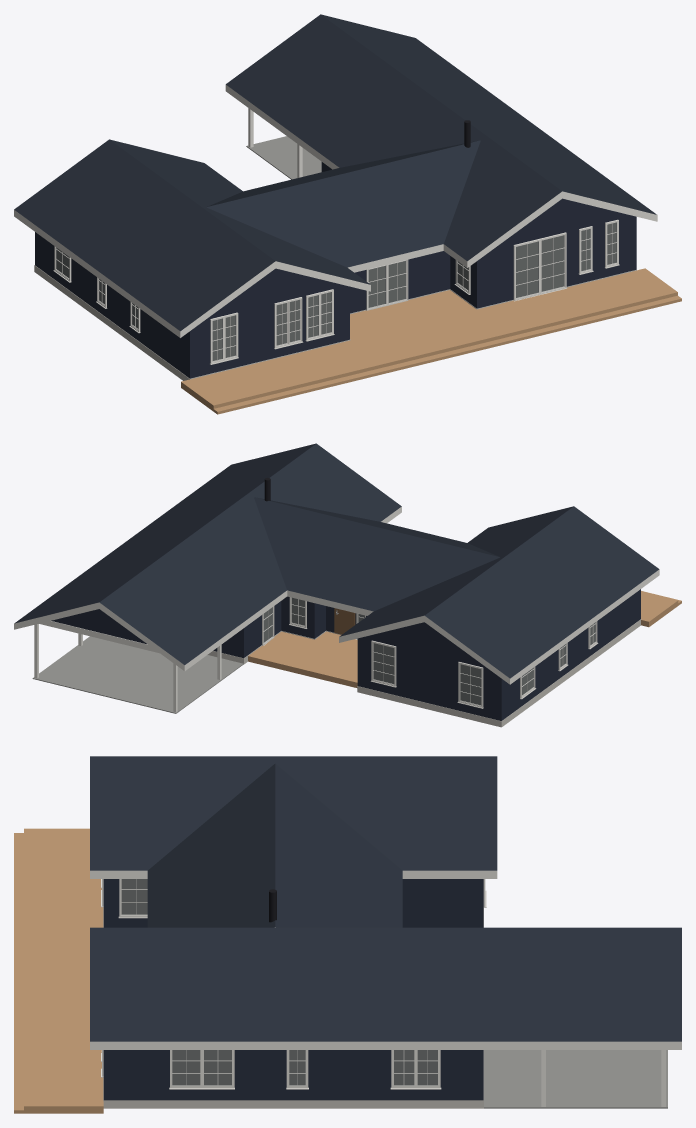
File: teder224_c1_p0_m1.glb
3 views of the same model, one above another, from view 1: azimuth 30°, elevation 25°; view 2: azimuth 150°, elevation 25°; view 3: azimuth 270°, elevation 25° (orthographic). The views are drawn at different scales.
Parts seen in each view (by area): view 1: roof, deck, wall, glass, curtain, fascia, frame, plinth, paving; view 2: roof, wall, paving, fascia, deck, glass, curtain, plinth, frame, door; view 3: roof, deck, wall, paving, fascia, glass, curtain, plinth, frame.
Boxes of the visible parts, x1=… form: roof: x1=14, y1=14, x2=656, y2=331; deck: x1=181, y1=268, x2=681, y2=414; wall: x1=35, y1=162, x2=636, y2=378; glass: x1=56, y1=222, x2=616, y2=360; curtain: x1=56, y1=222, x2=616, y2=360; fascia: x1=14, y1=85, x2=657, y2=337; frame: x1=53, y1=219, x2=619, y2=364; plinth: x1=34, y1=265, x2=636, y2=380; paving: x1=246, y1=136, x2=321, y2=179; roof: x1=14, y1=443, x2=659, y2=678; wall: x1=51, y1=589, x2=640, y2=720; paving: x1=32, y1=636, x2=243, y2=713; fascia: x1=14, y1=506, x2=659, y2=712; deck: x1=248, y1=591, x2=681, y2=687; glass: x1=263, y1=598, x2=595, y2=705; curtain: x1=263, y1=598, x2=595, y2=704; plinth: x1=207, y1=619, x2=641, y2=727; frame: x1=262, y1=597, x2=598, y2=708; door: x1=334, y1=608, x2=355, y2=634; roof: x1=90, y1=756, x2=681, y2=1041; deck: x1=14, y1=828, x2=103, y2=1113; wall: x1=103, y1=879, x2=483, y2=1100; paving: x1=484, y1=1050, x2=667, y2=1108; fascia: x1=90, y1=870, x2=681, y2=1106; glass: x1=121, y1=879, x2=437, y2=1085; curtain: x1=121, y1=879, x2=437, y2=1085; plinth: x1=103, y1=907, x2=483, y2=1108; frame: x1=101, y1=879, x2=486, y2=1089.
Size of the model in its own units: 21.93 by 5.66 by 21.72.
13 materials, 5 textured.
